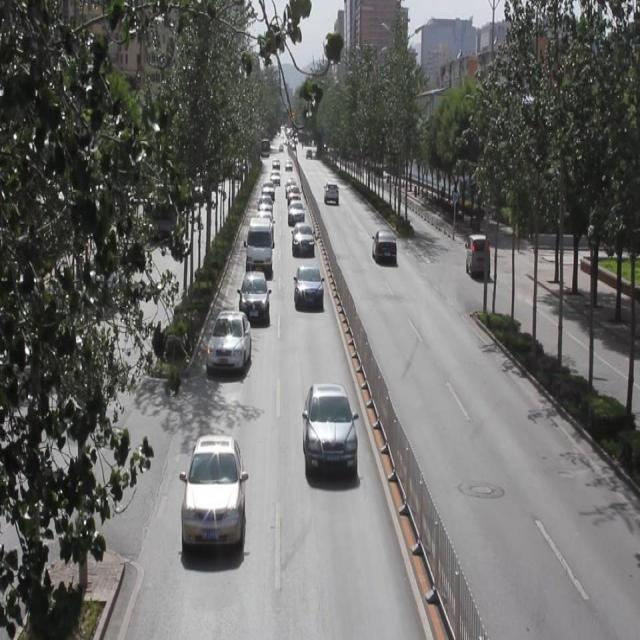car: (182, 435, 245, 545), (303, 384, 355, 471), (208, 310, 249, 370), (238, 271, 268, 323), (293, 265, 322, 312), (371, 229, 396, 268), (292, 221, 314, 258), (252, 210, 270, 244), (286, 199, 303, 226), (257, 195, 272, 215)
truck: (246, 218, 273, 270), (464, 233, 489, 275)
